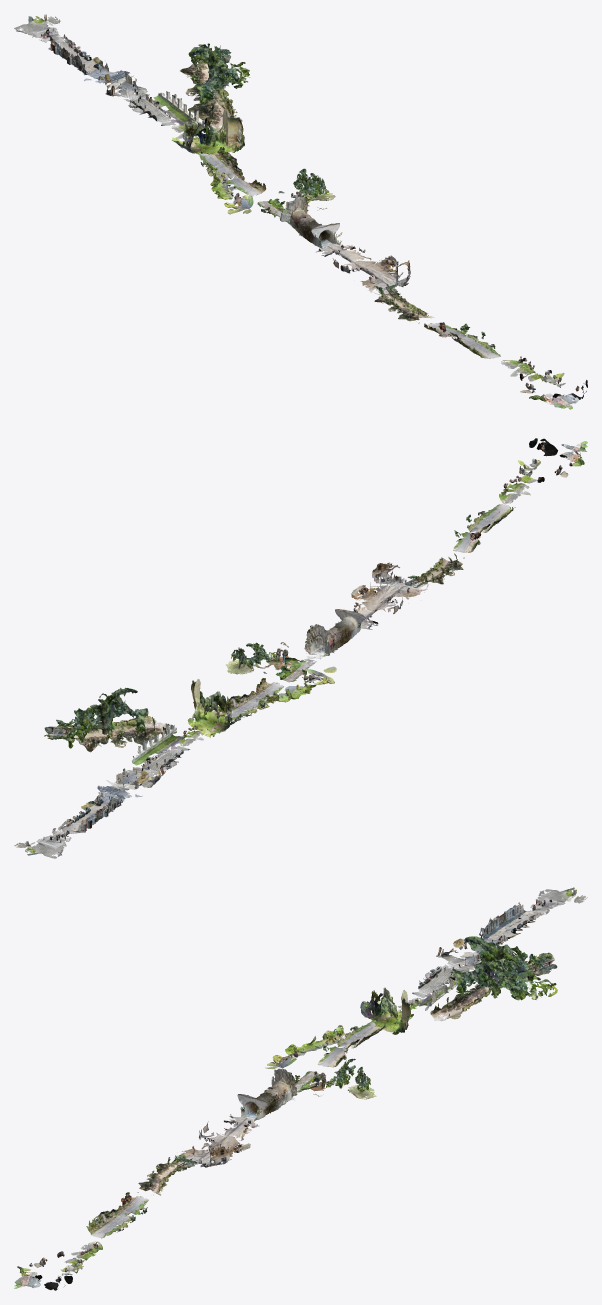
File: city.glb
3 renders of one model, top to bottom at view 1: azimuth 30°, elevation 25°; view 2: azimuth 150°, elevation 25°; view 3: azimuth 330°, elevation 25°, orthographic. The views are drawn at different scales.
Parts seen in each view (by area): view 1: default_10; view 2: default_10; view 3: default_10.
Part boxes in pixels (bbox=[...]): default_10: bbox=[14, 14, 587, 409]; default_10: bbox=[14, 438, 587, 858]; default_10: bbox=[14, 887, 587, 1290].
Size of the model in its own units: 54.66 by 23.23 by 343.
47 materials, 47 textured.
